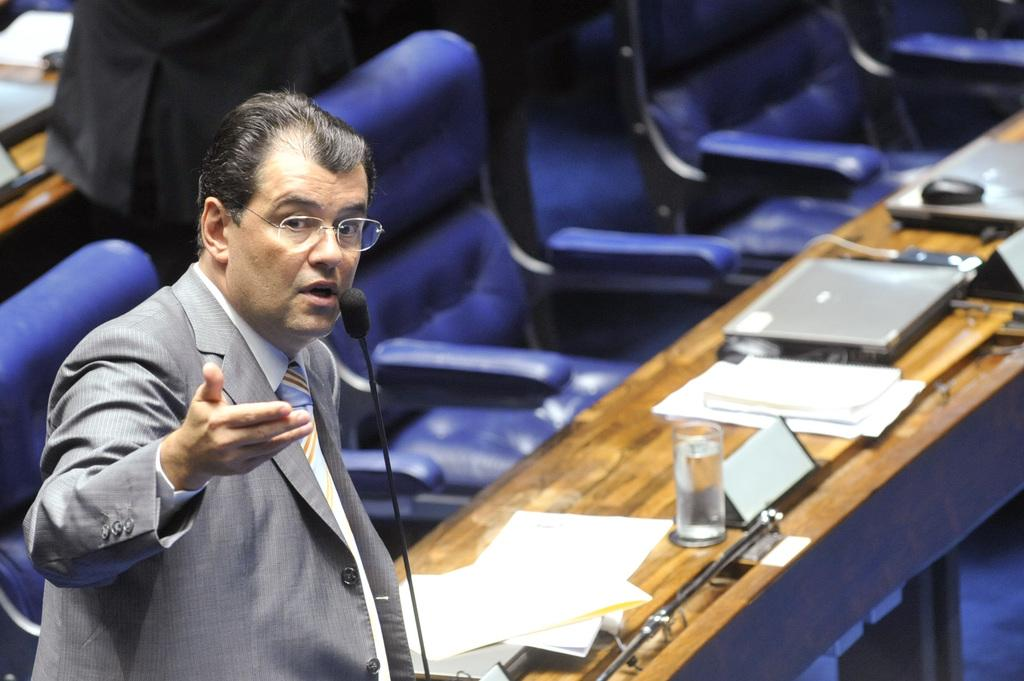Sem Máscara: (224, 139, 370, 345)
